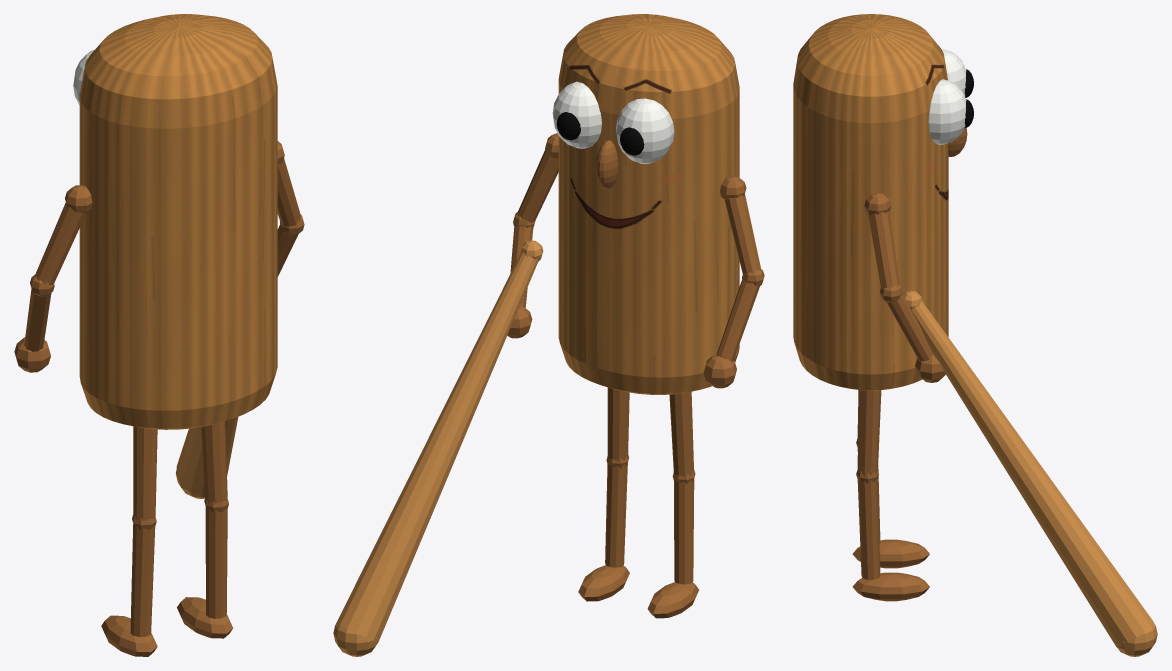
File: tung_tung_tung_sahur.obj
3 views of the same model, side by side, from view 1: azimuth 30°, elevation 25°; view 2: azimuth 150°, elevation 25°; view 3: azimuth 270°, elevation 25° (orthographic). The views are drawn at different scales.
Size of the model in its own units: 1 by 1.81 by 1.08.
